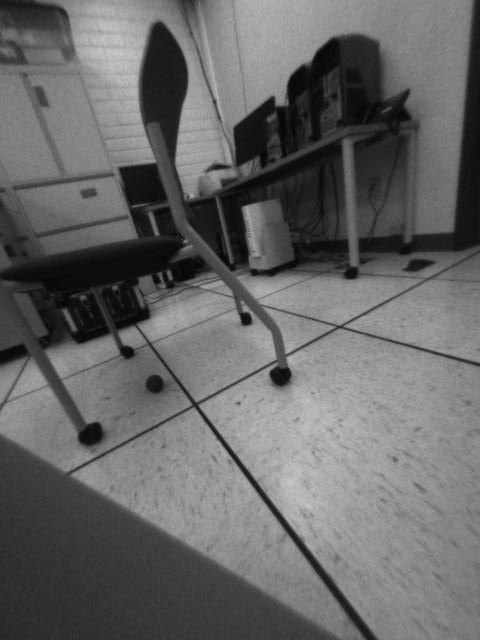dogtoy: (140, 364, 174, 400)
